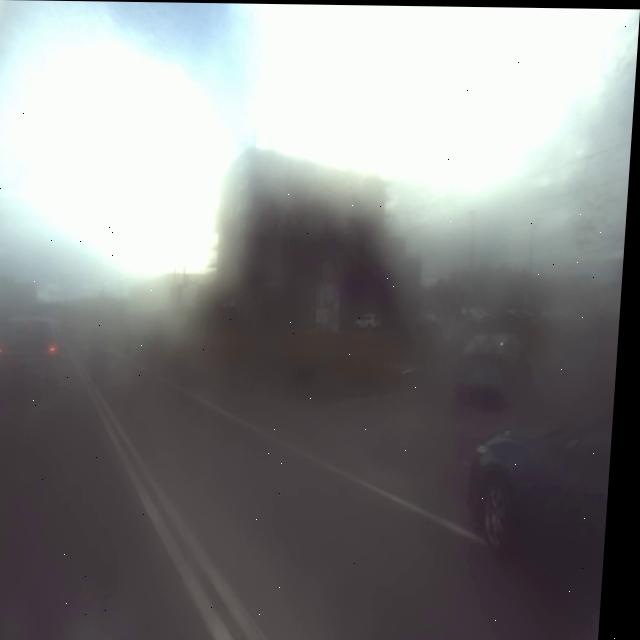car: (0, 302, 72, 413)
